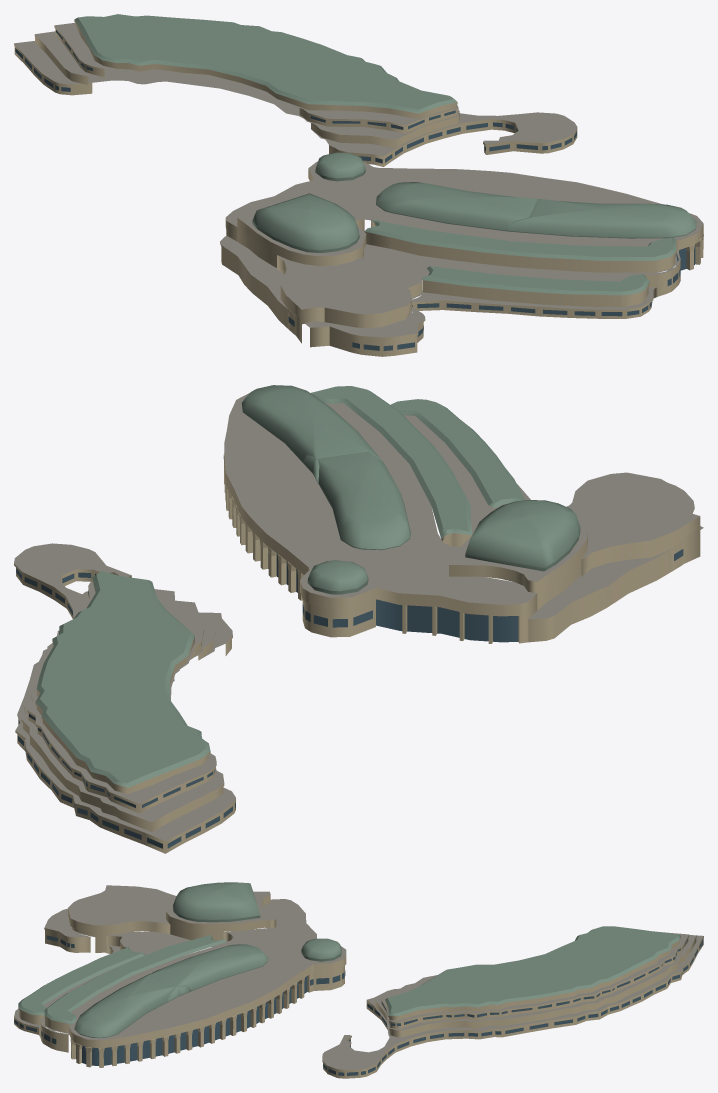
Rendered from canadian-museum-of-history-far.glb.
3 renders of one model, top to bottom at view 1: azimuth 30°, elevation 25°; view 2: azimuth 150°, elevation 25°; view 3: azimuth 270°, elevation 25°, orthographic. The views are drawn at different scales.
Visible parts, largest first — view 1: canadian-museum-of-history-0-copper, canadian-museum-of-history-0-roof, canadian-museum-of-history-0-stone, canadian-museum-of-history-0-glow; view 2: canadian-museum-of-history-0-copper, canadian-museum-of-history-0-roof, canadian-museum-of-history-0-stone, canadian-museum-of-history-0-glow; view 3: canadian-museum-of-history-0-copper, canadian-museum-of-history-0-roof, canadian-museum-of-history-0-stone, canadian-museum-of-history-0-glow.
Boxes of the visible parts, x1,y1,x2,y2 form: canadian-museum-of-history-0-copper: [74, 14, 696, 295]; canadian-museum-of-history-0-roof: [14, 23, 703, 337]; canadian-museum-of-history-0-stone: [14, 20, 703, 356]; canadian-museum-of-history-0-glow: [15, 30, 695, 350]; canadian-museum-of-history-0-copper: [35, 385, 580, 787]; canadian-museum-of-history-0-roof: [14, 393, 703, 840]; canadian-museum-of-history-0-stone: [14, 453, 700, 853]; canadian-museum-of-history-0-glow: [16, 549, 683, 848]; canadian-museum-of-history-0-copper: [18, 882, 680, 1038]; canadian-museum-of-history-0-roof: [14, 885, 703, 1069]; canadian-museum-of-history-0-stone: [14, 895, 703, 1078]; canadian-museum-of-history-0-glow: [14, 935, 703, 1075].
Bounding box in the file's own units: 181 × 27 × 318.
